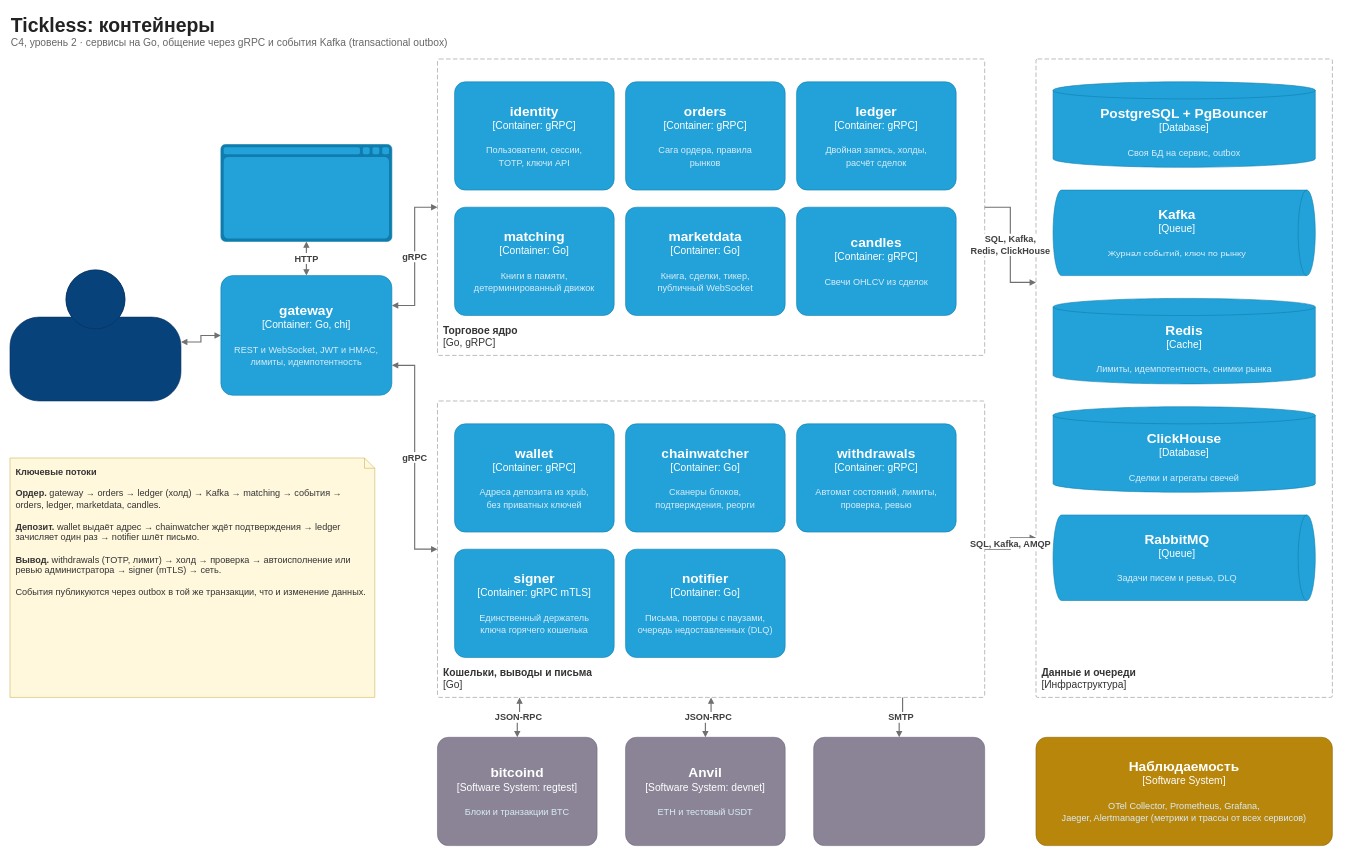
Image size: 1354x856. Some labels were removed from this diagram. The centre of each missing label's shape, as x and y in pixels:
"Mailpit [Software System: SMTP] Принимает письма" belongs at point 899,791.
"web [Container: React, nginx] Торговый терминал" belongs at point 306,192.
"Пользователи [Person] Трейдер, бот, администратор" belongs at point 95,335.
